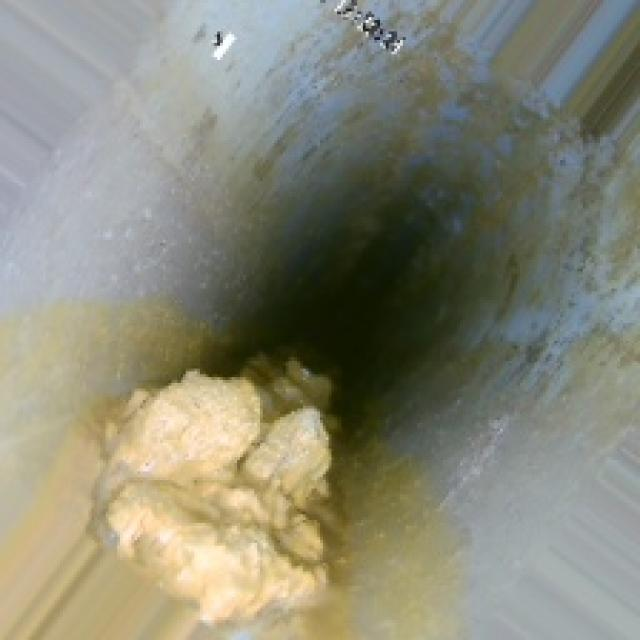sluge accumulation: (91, 340, 363, 614)
